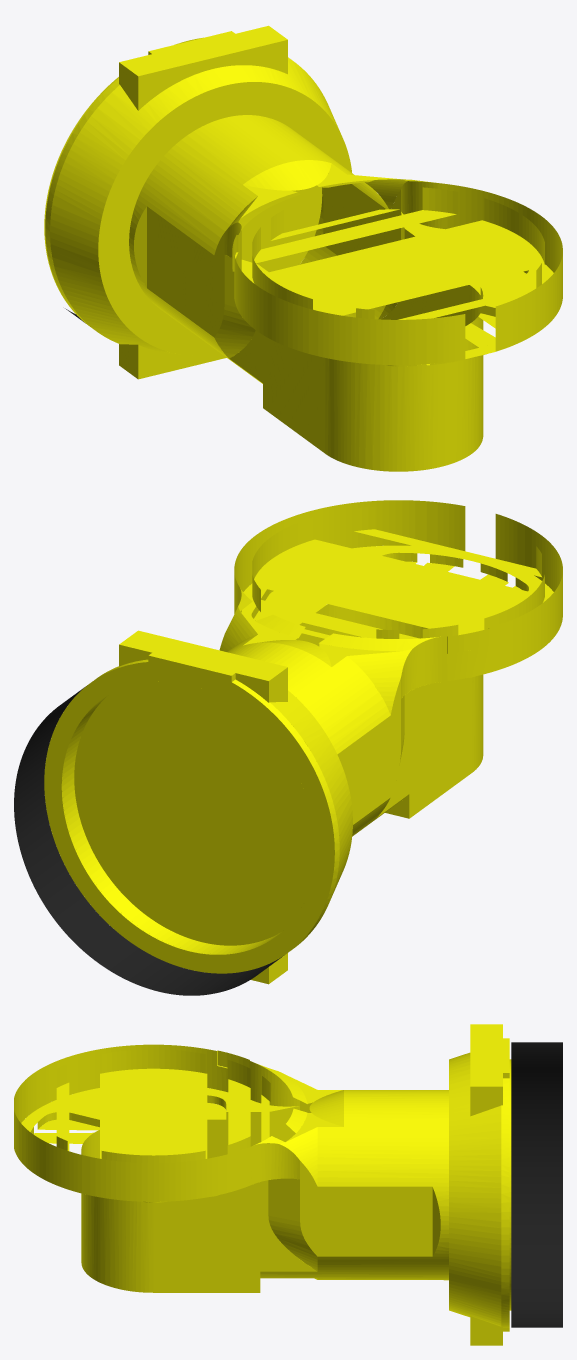
3 views of the same model, one above another, from view 1: azimuth 30°, elevation 25°; view 2: azimuth 150°, elevation 25°; view 3: azimuth 270°, elevation 25° (orthographic). The views are drawn at different scales.
Parts seen in each view (by area): view 1: node; view 2: node; view 3: node.
Part boxes in pixels (x1,y1,x2,y2): node: (44, 25, 562, 471); node: (14, 500, 562, 995); node: (14, 1024, 562, 1345).
Bounding box in the file's own units: 174 × 174 × 335.
